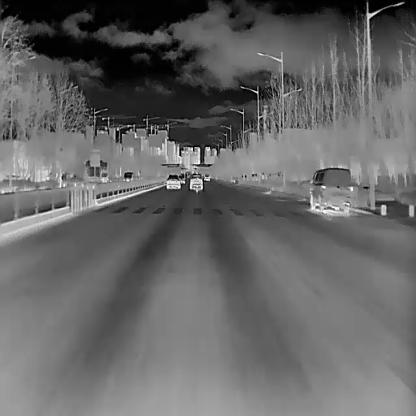bus: (84, 159, 108, 184)
car: (308, 166, 352, 212), (165, 173, 180, 189), (189, 172, 202, 190), (123, 171, 134, 181), (178, 173, 185, 183), (203, 173, 209, 180)
